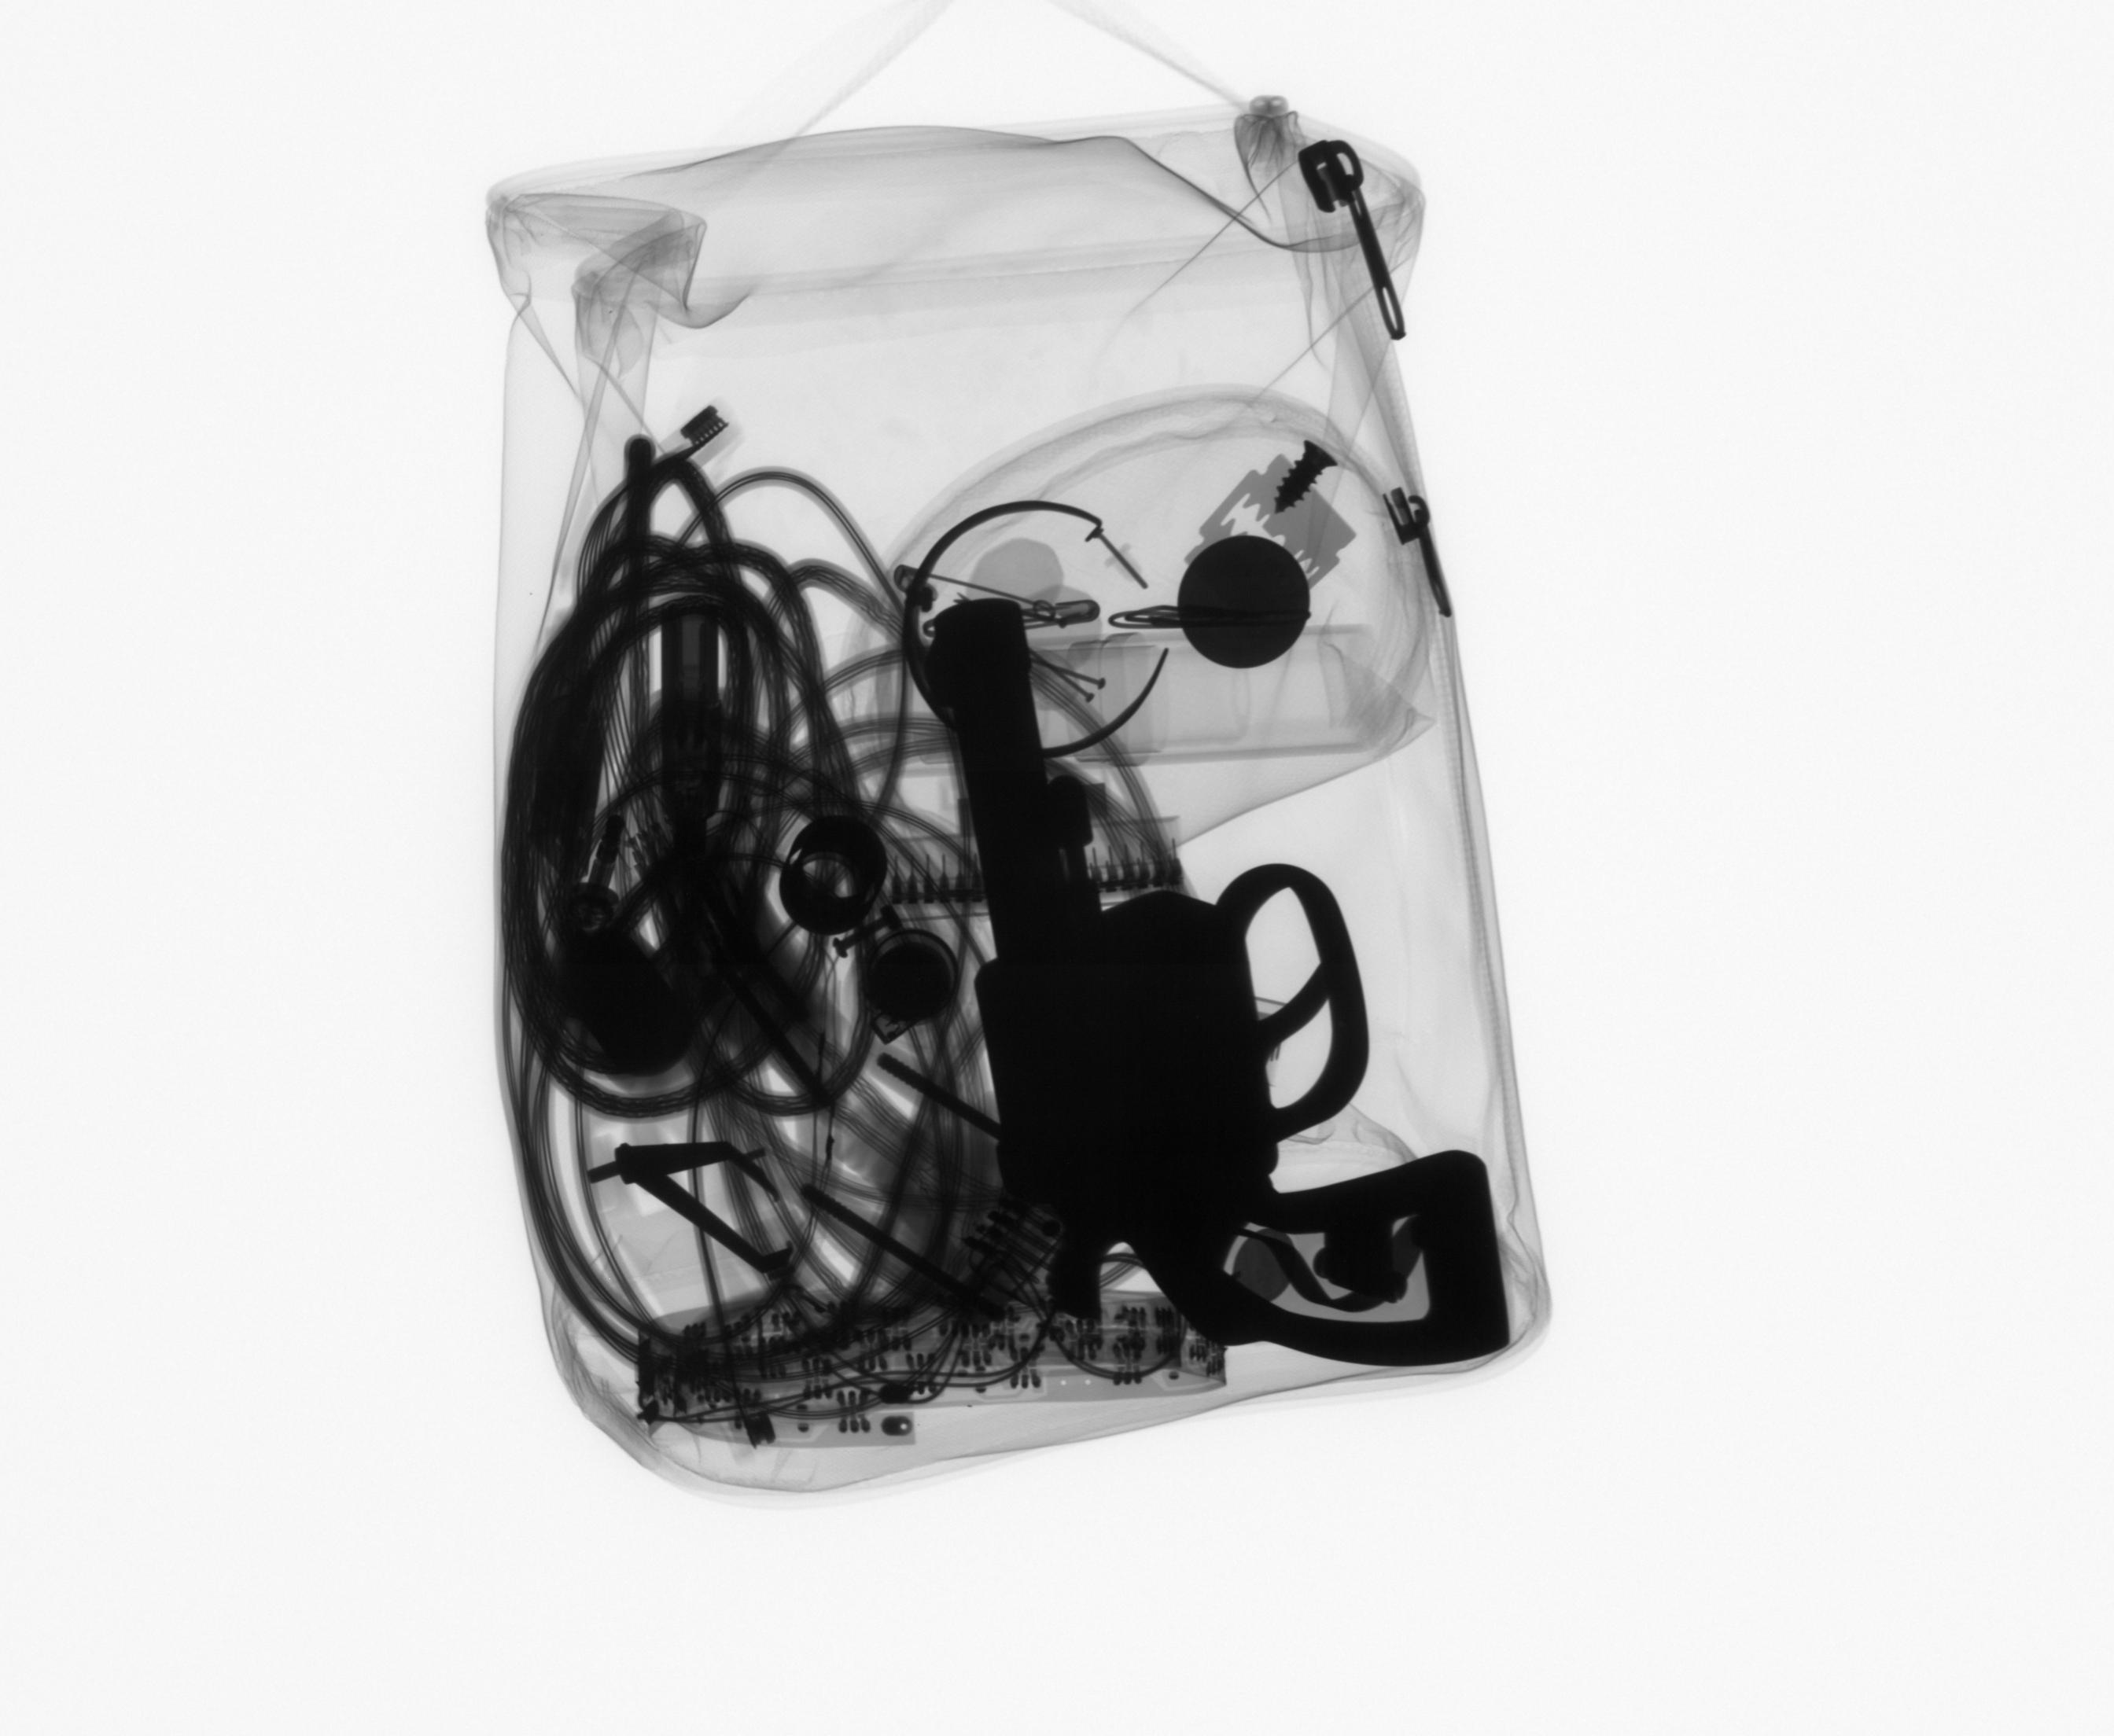Handgun: (887, 592, 1519, 1374)
RazorBlade: (1176, 448, 1363, 627)
